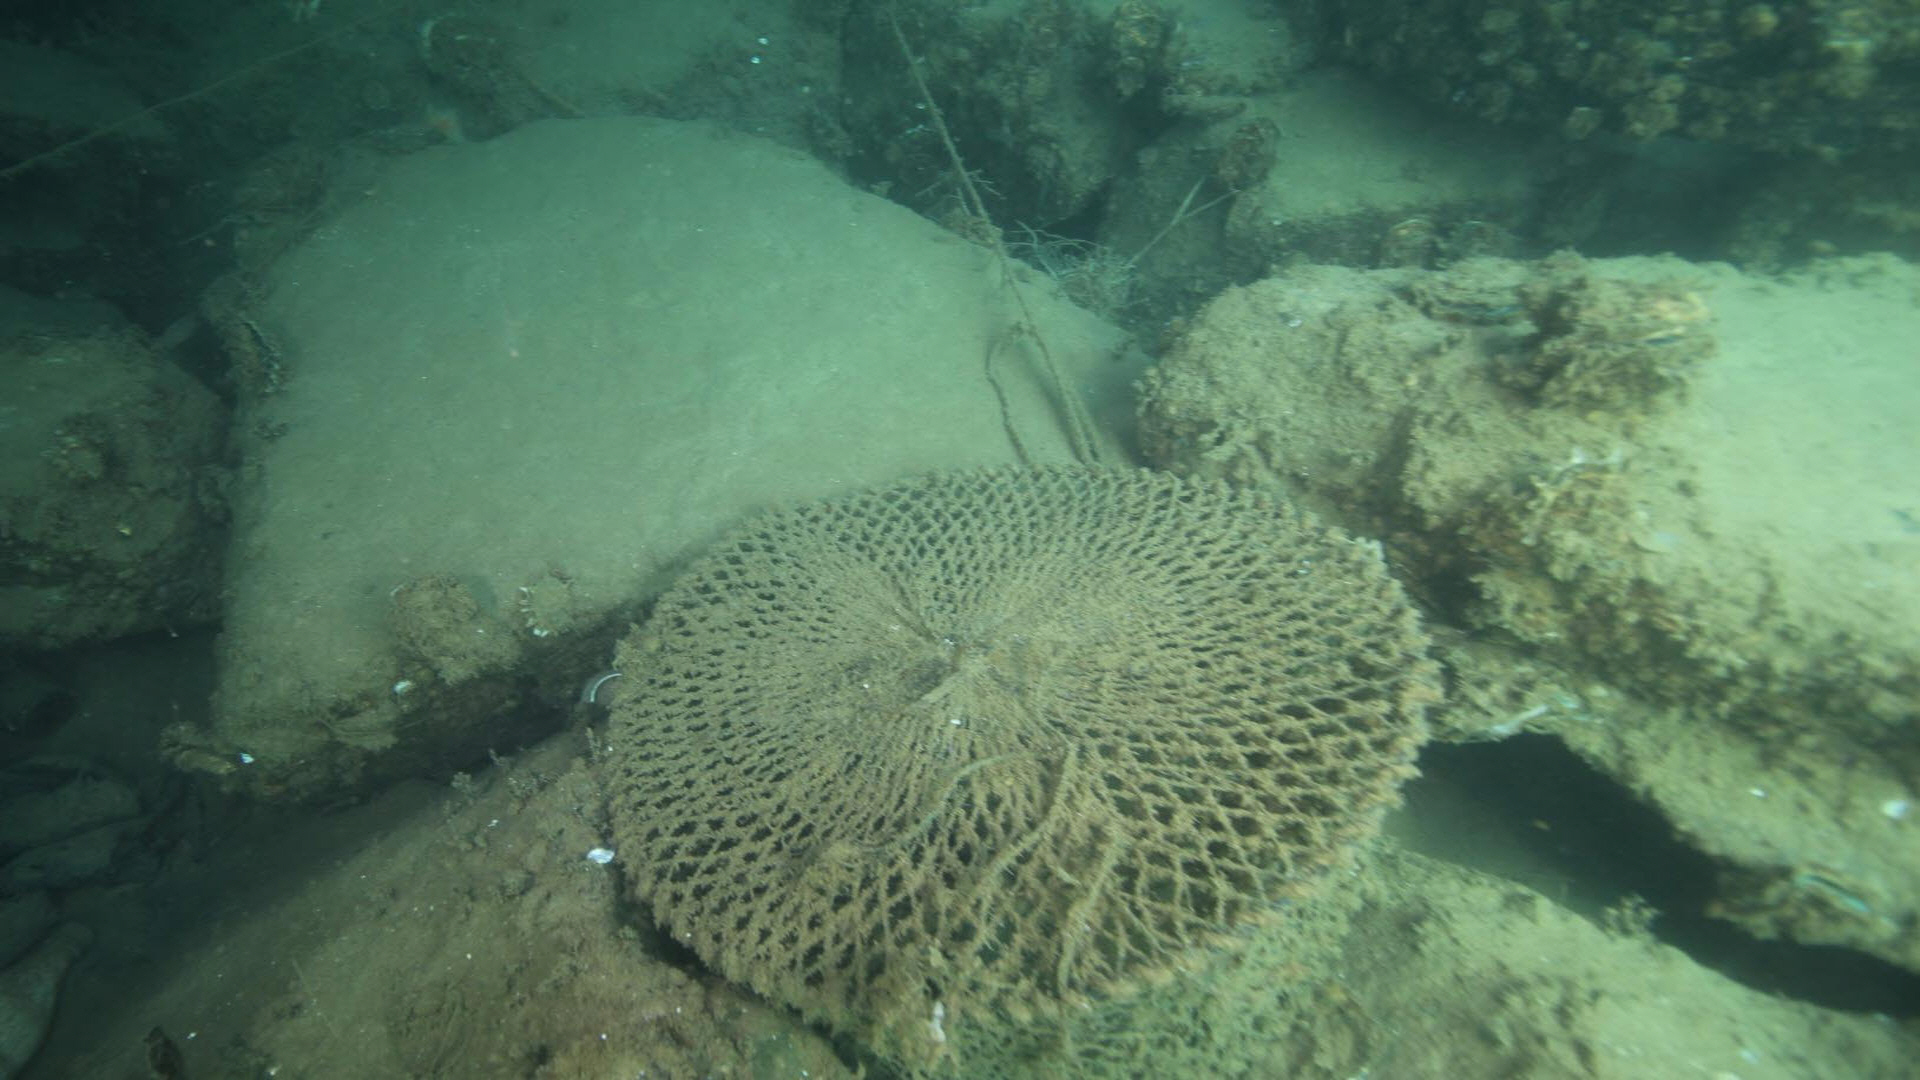circular fish trap: (603, 460, 1431, 1034)
